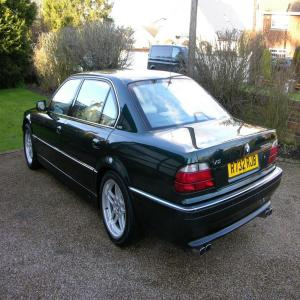Vehicle-registration-plate: (229, 155, 260, 178)
